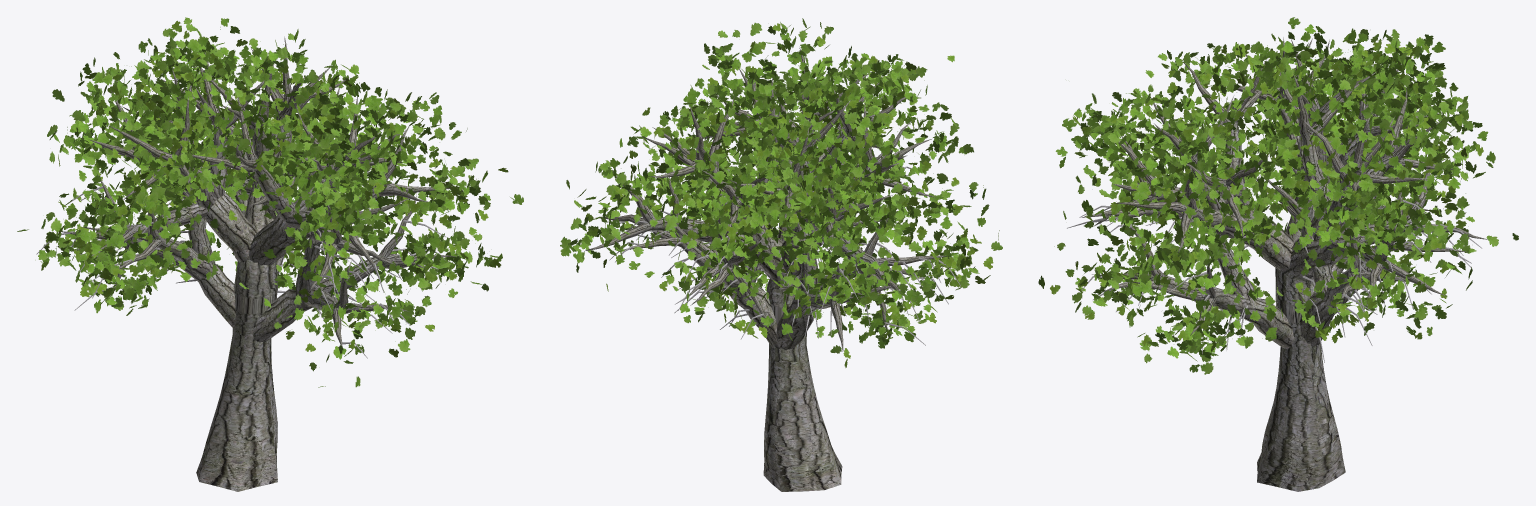
3 renders of one model, left to right at view 1: azimuth 30°, elevation 25°; view 2: azimuth 150°, elevation 25°; view 3: azimuth 270°, elevation 25°, orthographic. The views are drawn at different scales.
Parts seen in each view (by area): view 1: Tilo foliage cards, Tilo_EasyTree_V022_Proof, Tilo V022 delicate lower branches; view 2: Tilo foliage cards, Tilo_EasyTree_V022_Proof, Tilo V022 delicate lower branches; view 3: Tilo foliage cards, Tilo_EasyTree_V022_Proof, Tilo V022 delicate lower branches.
Part boxes in pixels (bbox=[...]): Tilo foliage cards: bbox=[17, 17, 523, 387]; Tilo_EasyTree_V022_Proof: bbox=[61, 36, 456, 491]; Tilo V022 delicate lower branches: bbox=[36, 166, 446, 358]; Tilo foliage cards: bbox=[560, 18, 1002, 367]; Tilo_EasyTree_V022_Proof: bbox=[584, 48, 945, 491]; Tilo V022 delicate lower branches: bbox=[606, 147, 960, 345]; Tilo foliage cards: bbox=[1038, 17, 1518, 374]; Tilo_EasyTree_V022_Proof: bbox=[1081, 37, 1487, 491]; Tilo V022 delicate lower branches: bbox=[1067, 150, 1482, 362].
Size of the model in its own units: 5.91 by 5.74 by 5.76.
2 materials, 2 textured.
